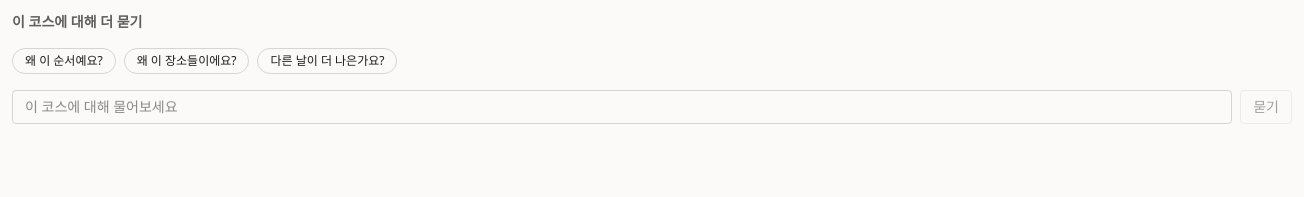
Scenario: 코스 후속 질문 › 실패한 질문도 목록에 남는다
In the field named "이 코스에 대해 더 묻기": (622, 107) top-left (12, 90), bottom-right (1232, 124), type "왜요?"
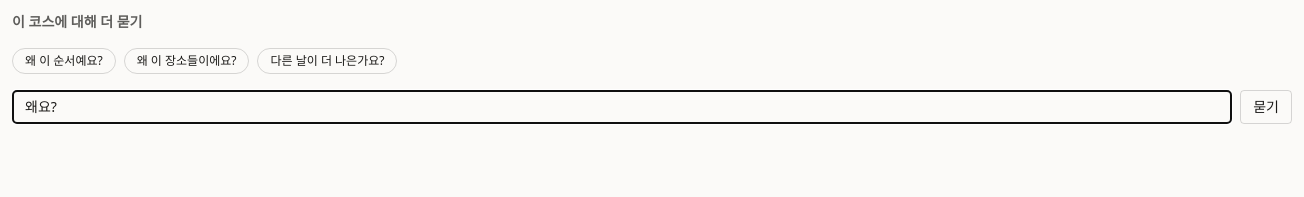
Click the button "묻기": (1266, 107) top-left (1240, 90), bottom-right (1292, 124)
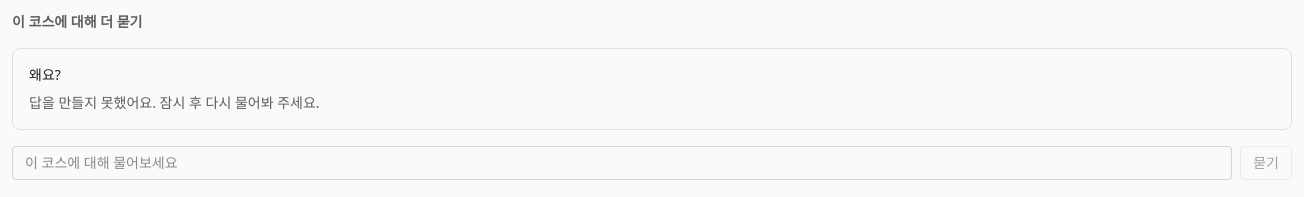
Expected: the text "답을 만들지 못했어요. 잠시 후 다시 물어봐 주세요." is shown, top-left (29, 93), bottom-right (320, 112)
Expected: the text "왜요?" is shown, top-left (29, 65), bottom-right (61, 84)
